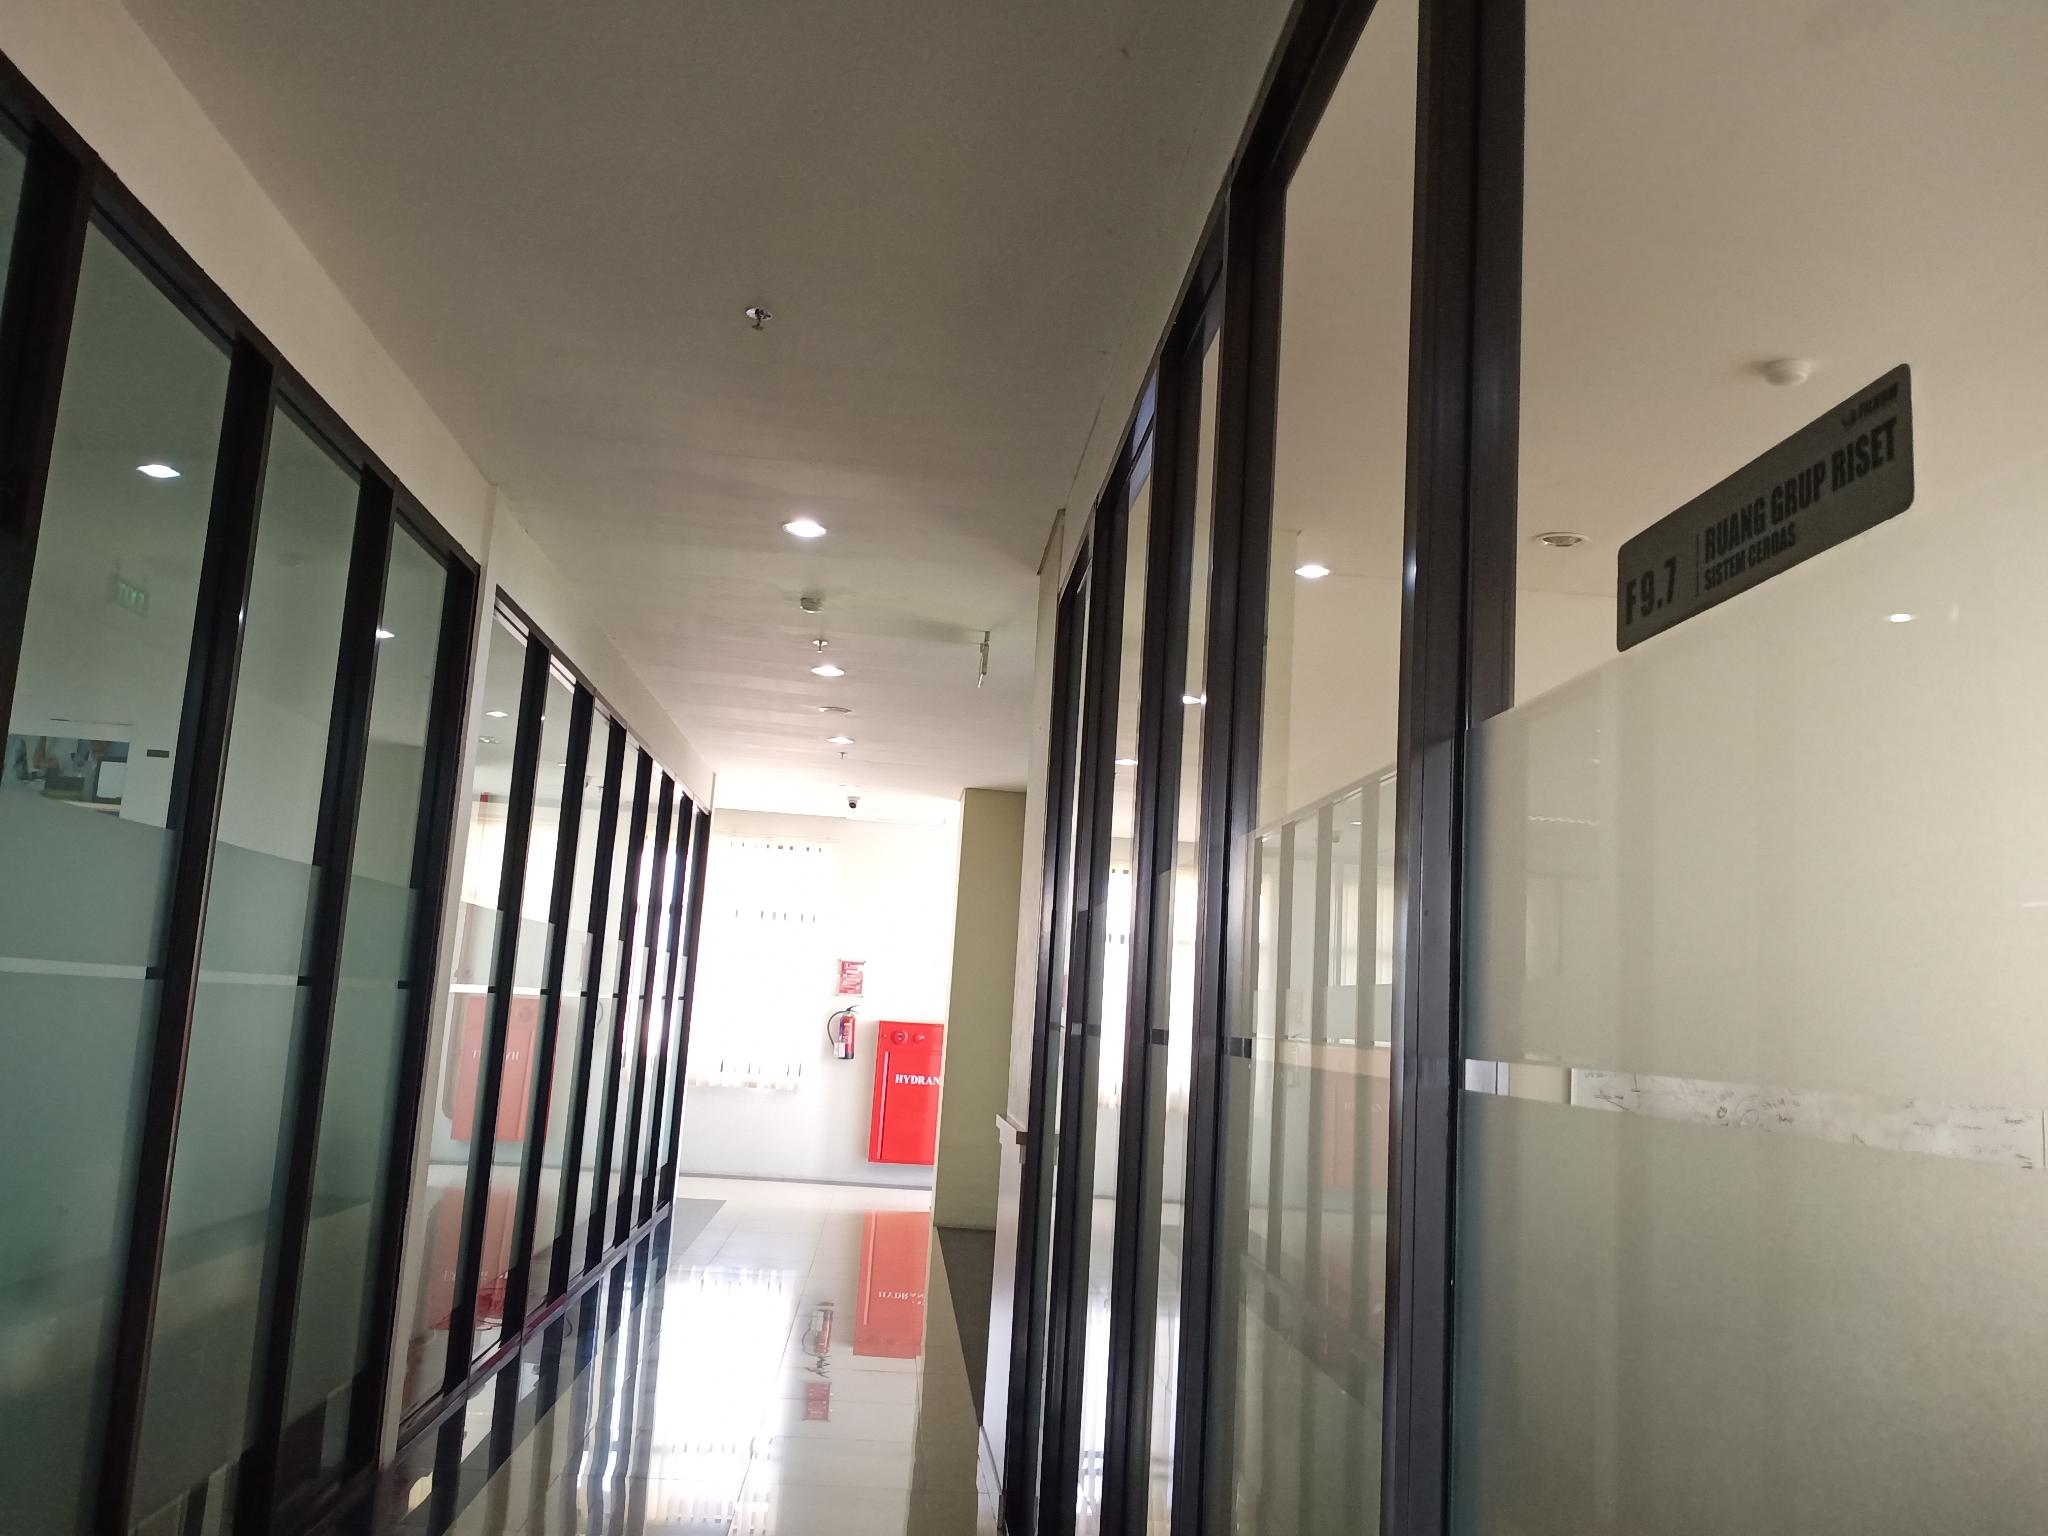plate: (1613, 361, 1917, 655)
